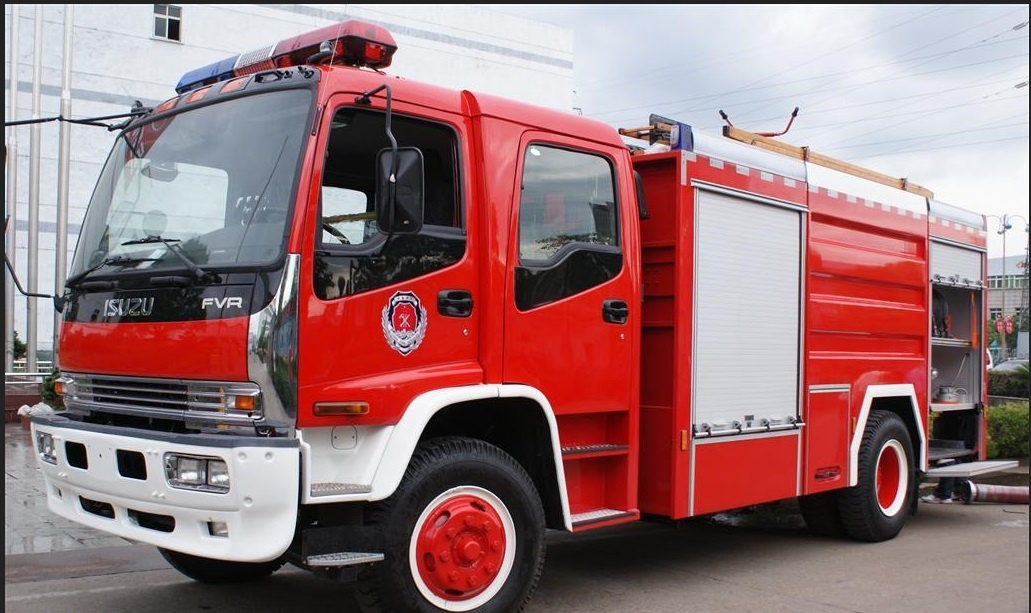fire engine: (35, 22, 999, 595)
